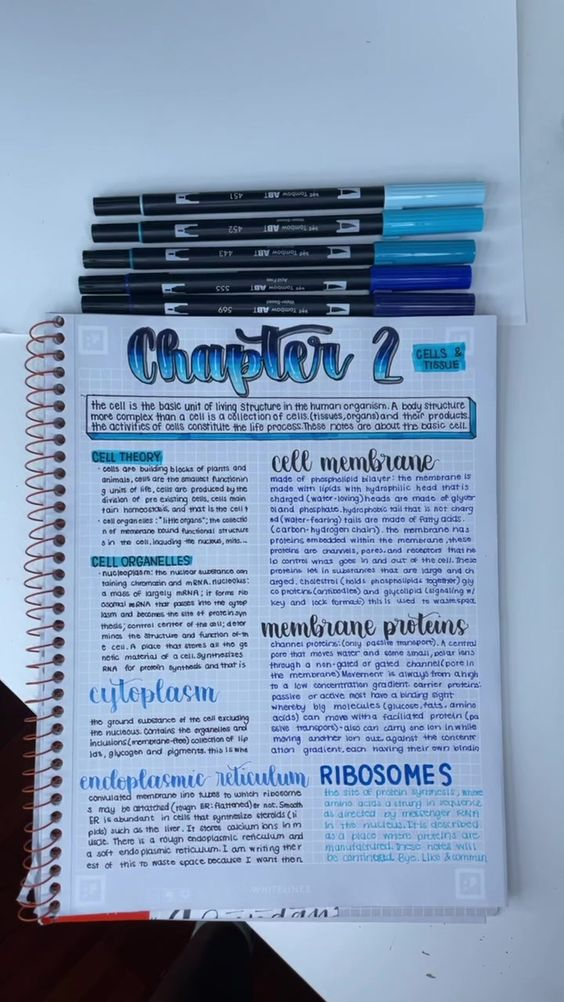page: (67, 315, 502, 914)
